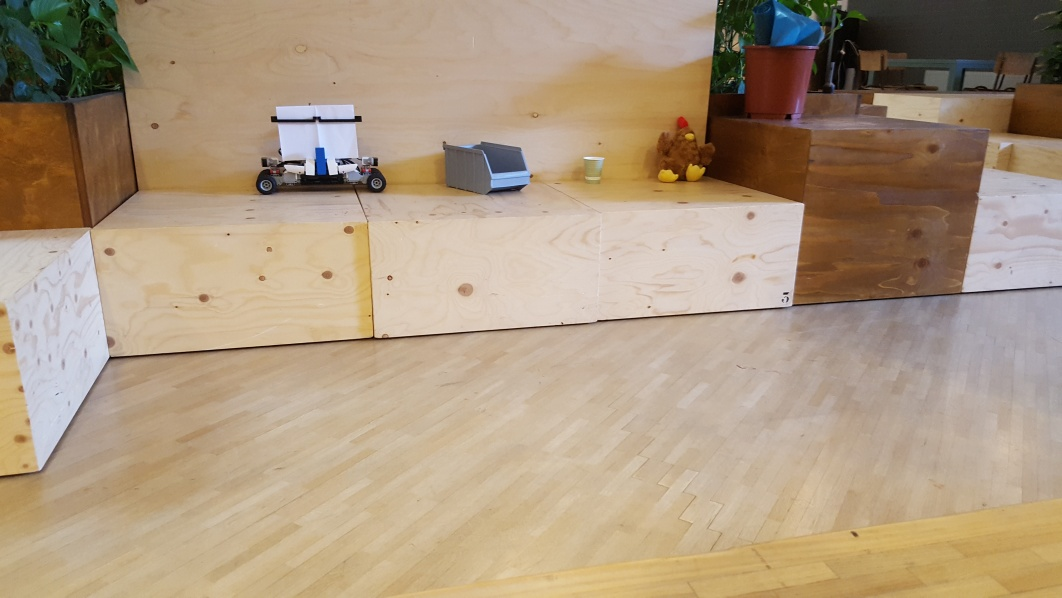car: (256, 106, 386, 194)
chicken: (654, 116, 716, 185)
cup: (582, 154, 606, 181)
tray: (436, 137, 535, 197)
